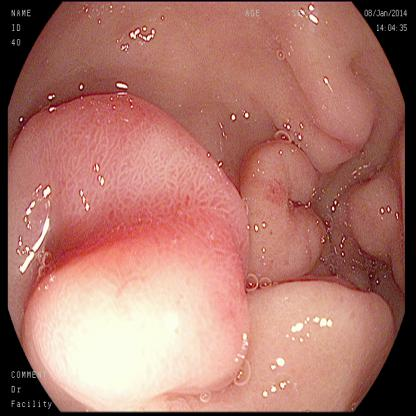Labels: (45, 275, 225, 386), (236, 0, 410, 39), (7, 357, 76, 415), (5, 0, 41, 65)
Polyps: (250, 138, 325, 276), (349, 160, 403, 273)
